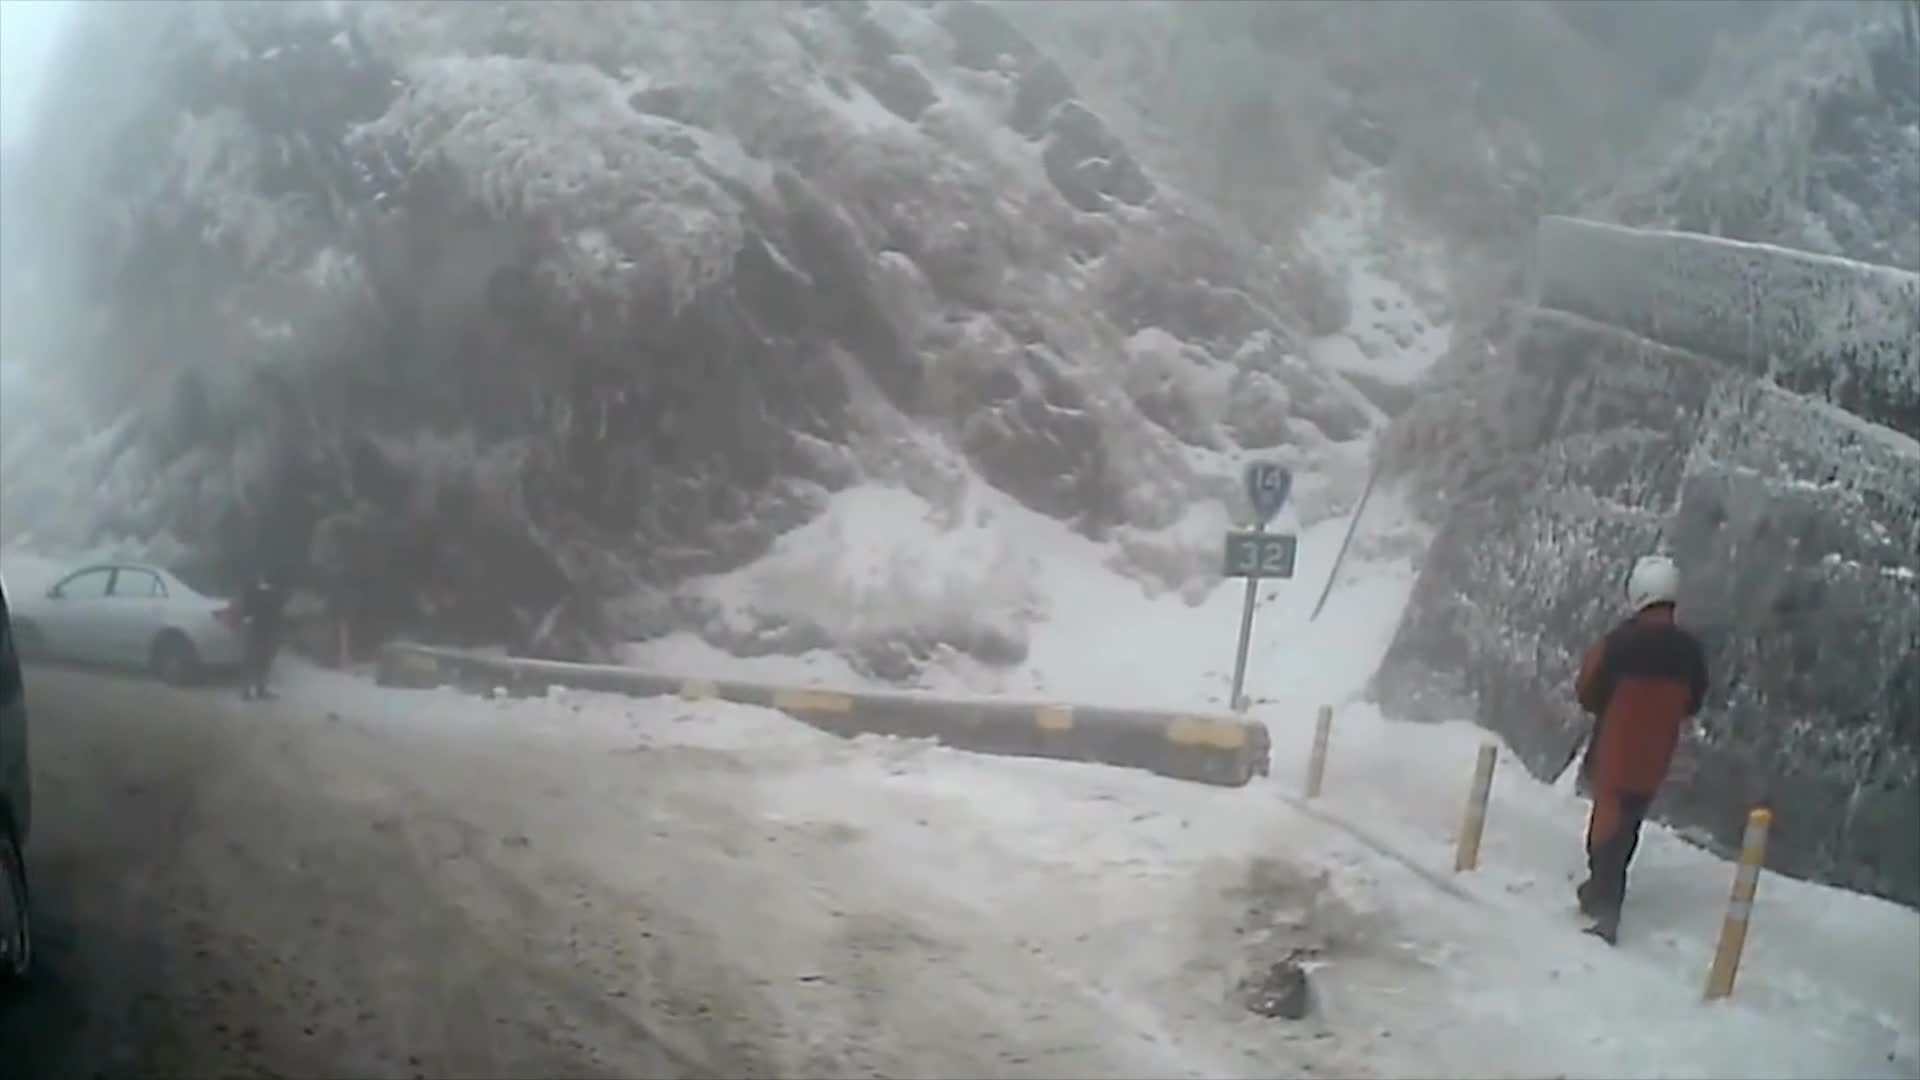pedestrian: (1572, 553, 1707, 949), (232, 566, 287, 697)
vehicle: (2, 556, 258, 683), (0, 581, 43, 1004)
